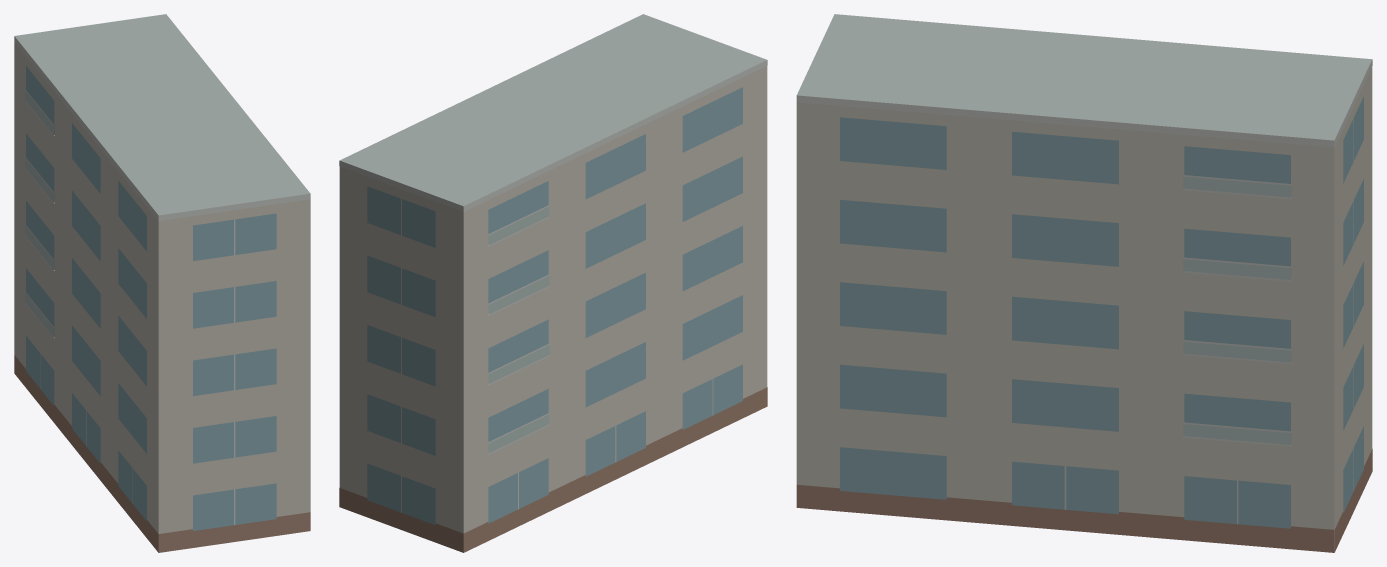
Rendered from survey-upis-32565042.glb.
The picture shows the model from 3 angles, left to right: view 1: azimuth 30°, elevation 25°; view 2: azimuth 150°, elevation 25°; view 3: azimuth 270°, elevation 25°; orthographic projection. The views are drawn at different scales.
Parts seen in each view (by area): view 1: survey-upis-32565042.tmp; view 2: survey-upis-32565042.tmp; view 3: survey-upis-32565042.tmp.
Part boxes in pixels (x1,y1,x2,y2): survey-upis-32565042.tmp: (14,14,310,552); survey-upis-32565042.tmp: (339,14,767,552); survey-upis-32565042.tmp: (796,14,1372,552).
Size of the model in its own units: 9.62 by 14.6 by 18.49.
